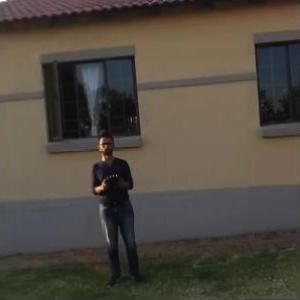follow: (88, 126, 145, 292)
